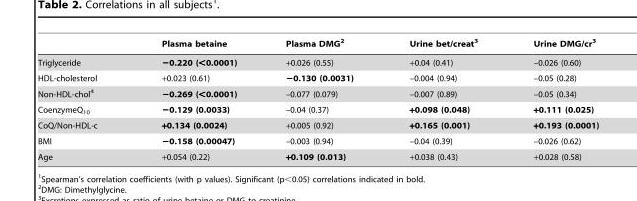table: (37, 37, 598, 161)
table column: (128, 37, 260, 161), (380, 37, 505, 161), (260, 37, 380, 161), (505, 37, 598, 161), (37, 37, 128, 161)
table column header: (37, 37, 598, 51)
table row: (37, 51, 598, 69), (37, 116, 598, 133), (37, 69, 598, 85), (37, 100, 598, 116), (37, 85, 598, 100), (37, 37, 598, 51), (37, 133, 598, 147), (37, 147, 598, 161)
